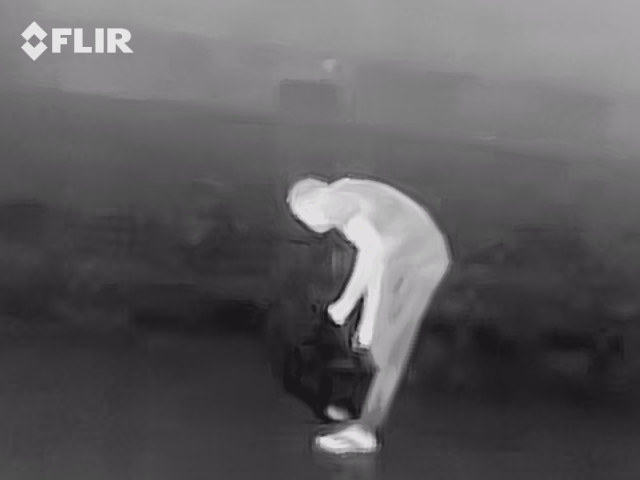head: (285, 177, 331, 235)
